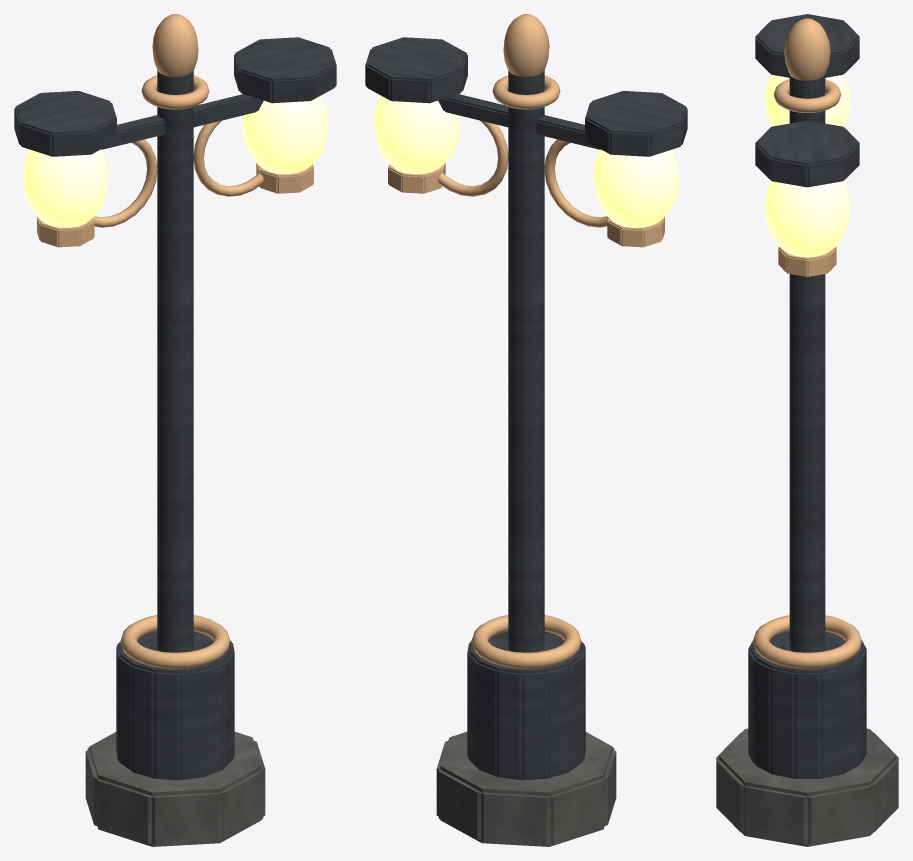
The model's file is furn_streetlight_dual.glb.
3 views of the same model, side by side, from view 1: azimuth 30°, elevation 25°; view 2: azimuth 150°, elevation 25°; view 3: azimuth 270°, elevation 25° (orthographic).
Visible parts, largest first — view 1: furn_streetlight_dual; view 2: furn_streetlight_dual; view 3: furn_streetlight_dual.
Boxes of the visible parts, x1=… form: furn_streetlight_dual: x1=14, y1=14, x2=336, y2=846; furn_streetlight_dual: x1=365, y1=14, x2=687, y2=846; furn_streetlight_dual: x1=716, y1=14, x2=898, y2=846.
Size of the model in its own units: 1.08 by 2.63 by 0.5508.
Materials: 4 (2 with a texture image).
